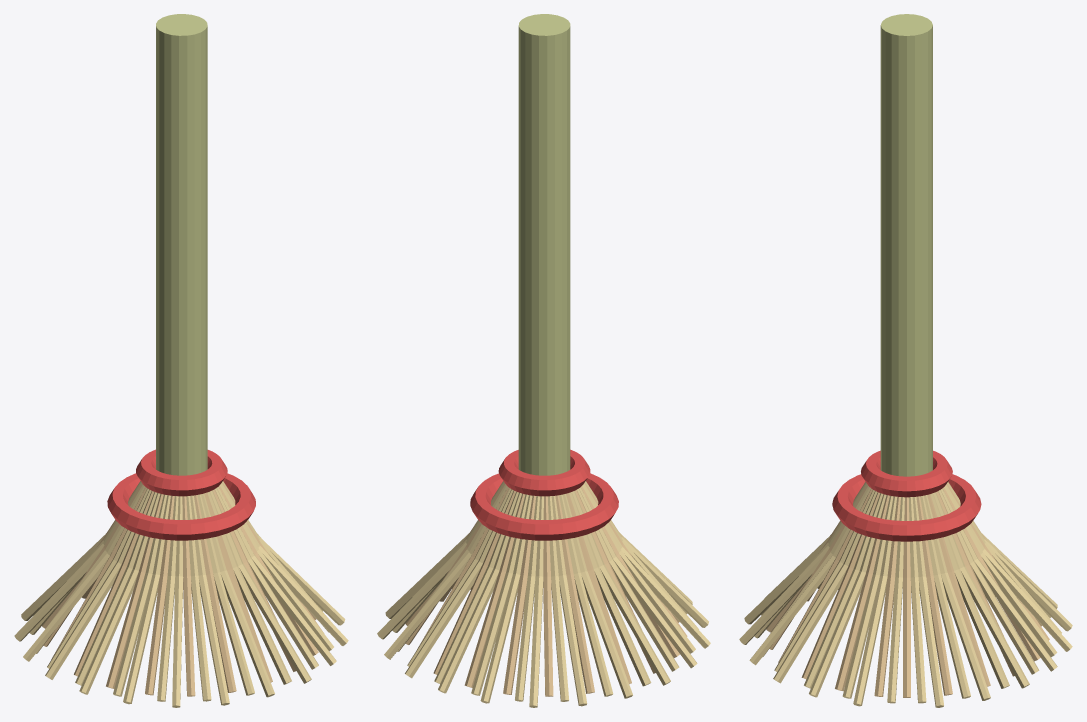
The model's file is bamboo_houki.glb.
3 views of the same model, side by side, from view 1: azimuth 30°, elevation 25°; view 2: azimuth 150°, elevation 25°; view 3: azimuth 270°, elevation 25° (orthographic).
Visible parts, largest first — view 1: Long split bamboo broom handle, Broom binding rope, Broom binding rope.001, Rice-straw broom bundle_01.035, Rice-straw broom bundle_01.047, Rice-straw broom bundle_01.038, Rice-straw broom bundle_01.044, Rice-straw broom bundle_01.050, Rice-straw broom bundle_01.032, Rice-straw broom bundle_01.046, Rice-straw broom bundle_01.037, Rice-straw broom bundle_01.049 (+19 smaller); view 2: Long split bamboo broom handle, Broom binding rope, Broom binding rope.001, Rice-straw broom bundle_01.014, Rice-straw broom bundle_01.026, Rice-straw broom bundle_01.017, Rice-straw broom bundle_01.023, Rice-straw broom bundle_01.029, Rice-straw broom bundle_01.025, Rice-straw broom bundle_01.011, Rice-straw broom bundle_01.028, Rice-straw broom bundle_01.016 (+18 smaller); view 3: Long split bamboo broom handle, Broom binding rope, Broom binding rope.001, Rice-straw broom bundle_01.056, Rice-straw broom bundle_01.005, Rice-straw broom bundle_01.059, Rice-straw broom bundle_01.008, Rice-straw broom bundle_01.053, Rice-straw broom bundle_01.002, Rice-straw broom bundle_01.004, Rice-straw broom bundle_01.007, Rice-straw broom bundle_01.058 (+18 smaller).
Part boxes in pixels (x1,y1,x2,y2): Long split bamboo broom handle: (156,14,207,475); Broom binding rope: (107,473,255,540); Broom binding rope.001: (136,449,227,496); Rice-straw broom bundle_01.035: (79,569,138,694); Rice-straw broom bundle_01.047: (220,570,274,697); Rice-straw broom bundle_01.038: (123,574,159,704); Rice-straw broom bundle_01.044: (198,575,229,705); Rice-straw broom bundle_01.050: (238,563,311,683); Rice-straw broom bundle_01.032: (45,562,121,679); Rice-straw broom bundle_01.046: (213,572,254,695); Rice-straw broom bundle_01.037: (113,573,152,696); Rice-straw broom bundle_01.049: (233,566,291,684); Long split bamboo broom handle: (518,14,570,475); Broom binding rope: (470,473,618,540); Broom binding rope.001: (498,449,590,496); Rice-straw broom bundle_01.014: (438,568,499,693); Rice-straw broom bundle_01.026: (581,571,632,698); Rice-straw broom bundle_01.017: (480,573,520,703); Rice-straw broom bundle_01.023: (558,575,587,706); Rice-straw broom bundle_01.029: (599,564,670,685); Rice-straw broom bundle_01.025: (573,573,613,696); Rice-straw broom bundle_01.011: (405,561,482,678); Rice-straw broom bundle_01.028: (594,567,651,686); Rice-straw broom bundle_01.016: (471,572,512,695); Long split bamboo broom handle: (880,14,932,476); Broom binding rope: (832,474,981,541); Broom binding rope.001: (861,450,952,497); Rice-straw broom bundle_01.056: (809,571,865,697); Rice-straw broom bundle_01.005: (941,572,990,700); Rice-straw broom bundle_01.059: (853,575,887,706); Rice-straw broom bundle_01.008: (960,566,1029,688); Rice-straw broom bundle_01.053: (773,564,848,683); Rice-straw broom bundle_01.002: (918,576,943,707); Rice-straw broom bundle_01.004: (933,574,970,698); Rice-straw broom bundle_01.007: (954,569,1009,688); Rice-straw broom bundle_01.058: (842,574,879,698).
Bounding box in the file's own units: 0.9501 × 1.95 × 0.9563.
